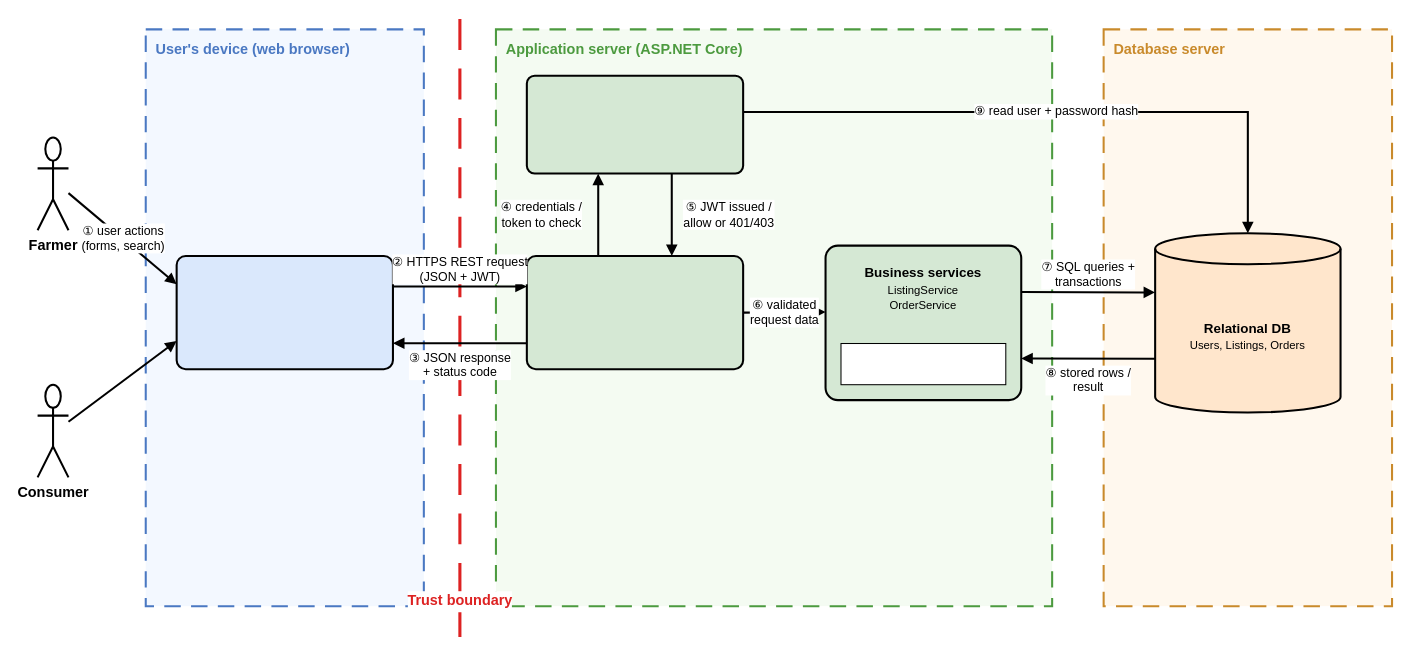
Some shapes in this 1411 by 657 pixel diagram are drawn without their labels. Here are the shapes that lost their labels. From the top down, the centre of each, then its label:
(634,124): Auth module JWT, password hashing
(284,312): React frontend (TypeScript SPA)
(634,312): Web API controllers /api/auth /api/listings /api/orders
(923,363): EF Core
